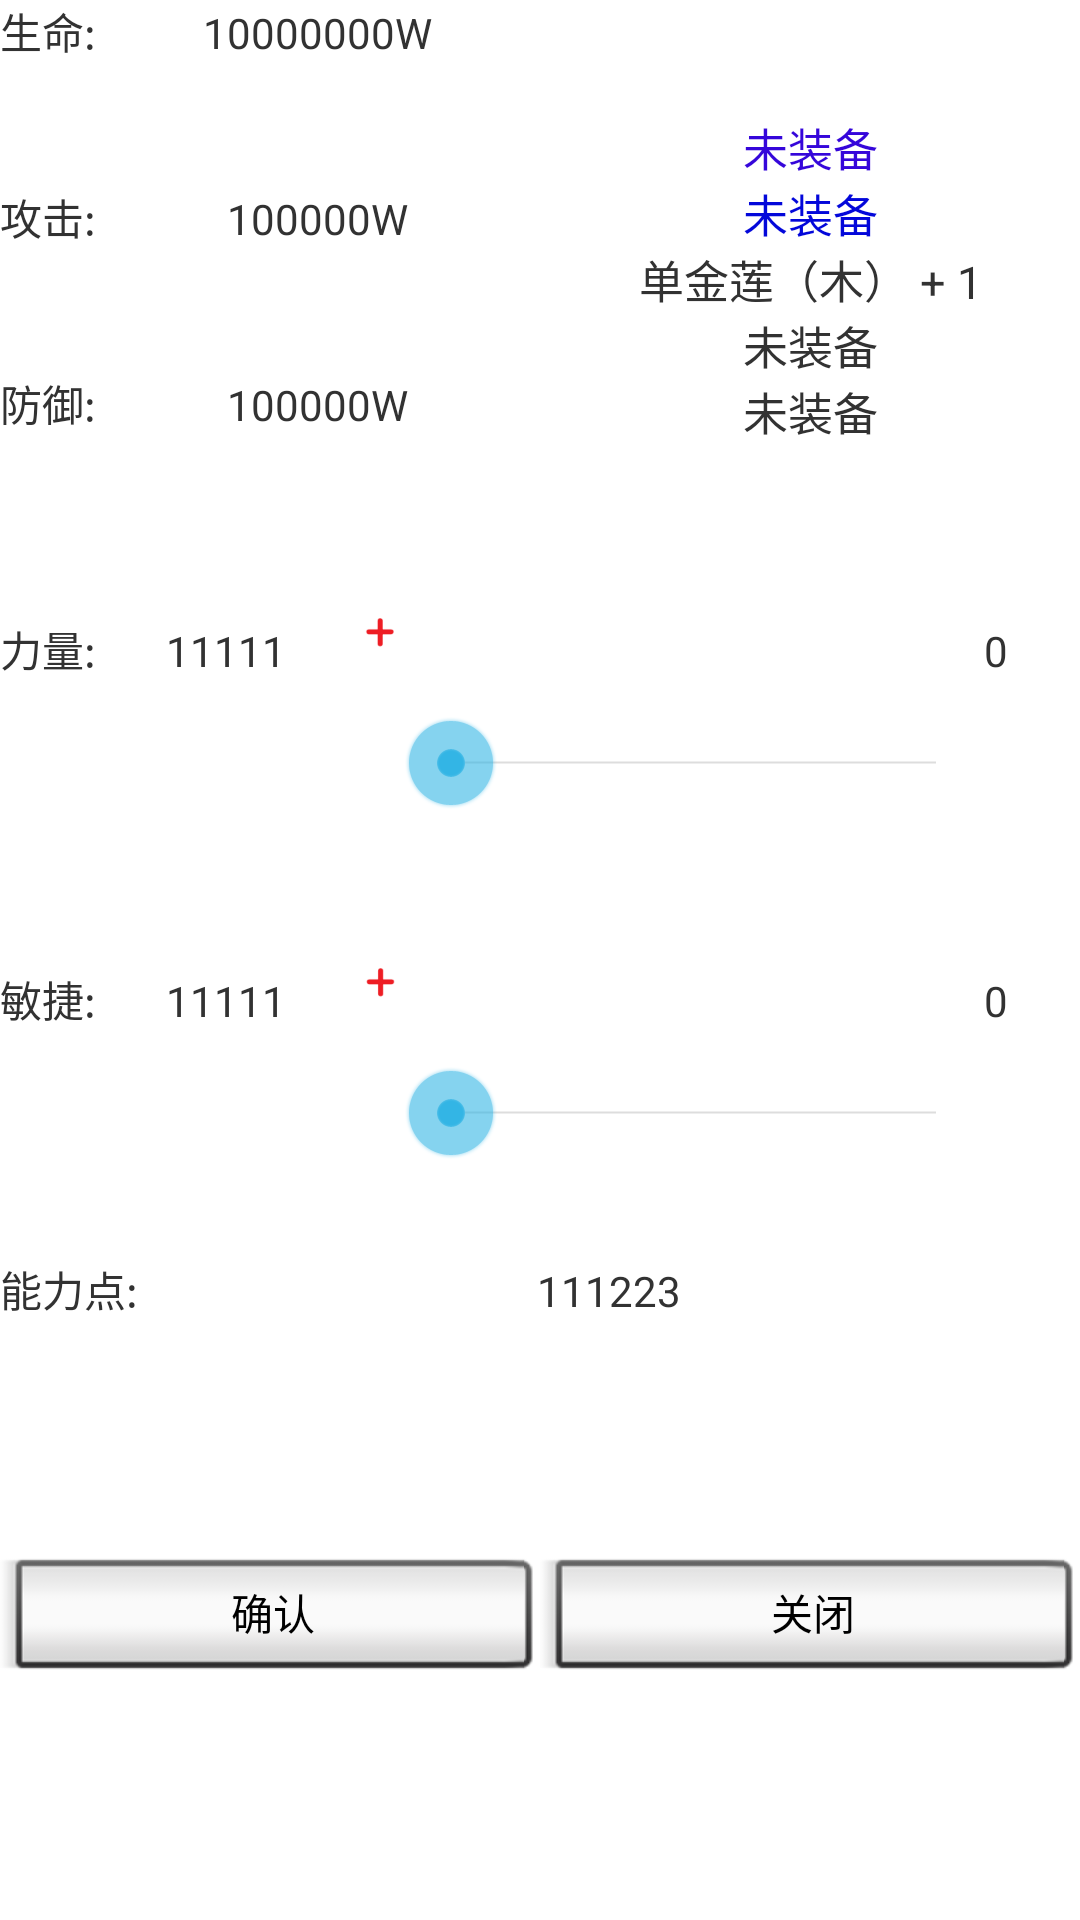

Named icons in this screenshot (1080px x 1920px) and their bounding boxes, (x1, y1, x2, y2):
jiahao zi: (366, 618, 394, 647), (366, 968, 395, 997)
